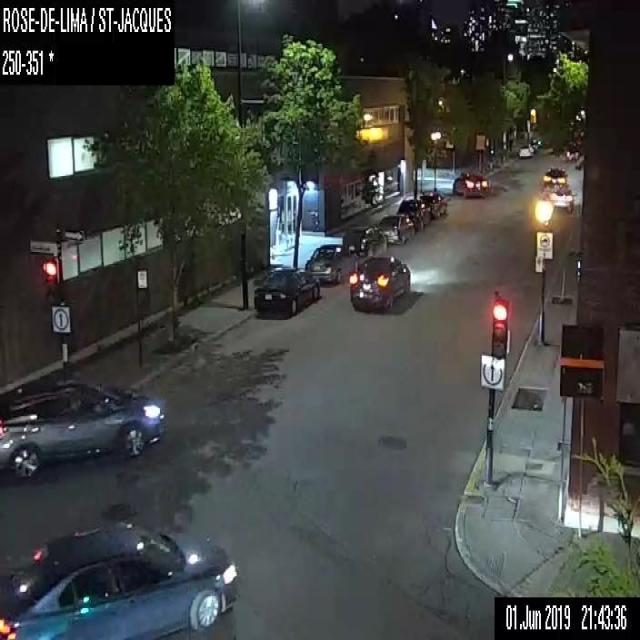vehicle: (0, 517, 241, 639), (0, 373, 166, 479), (348, 253, 410, 315), (252, 264, 319, 314), (304, 243, 360, 284), (341, 224, 388, 258), (395, 196, 432, 229), (377, 214, 416, 245), (452, 168, 488, 197), (546, 184, 578, 210), (419, 189, 448, 216), (542, 167, 567, 190), (517, 144, 533, 158)
